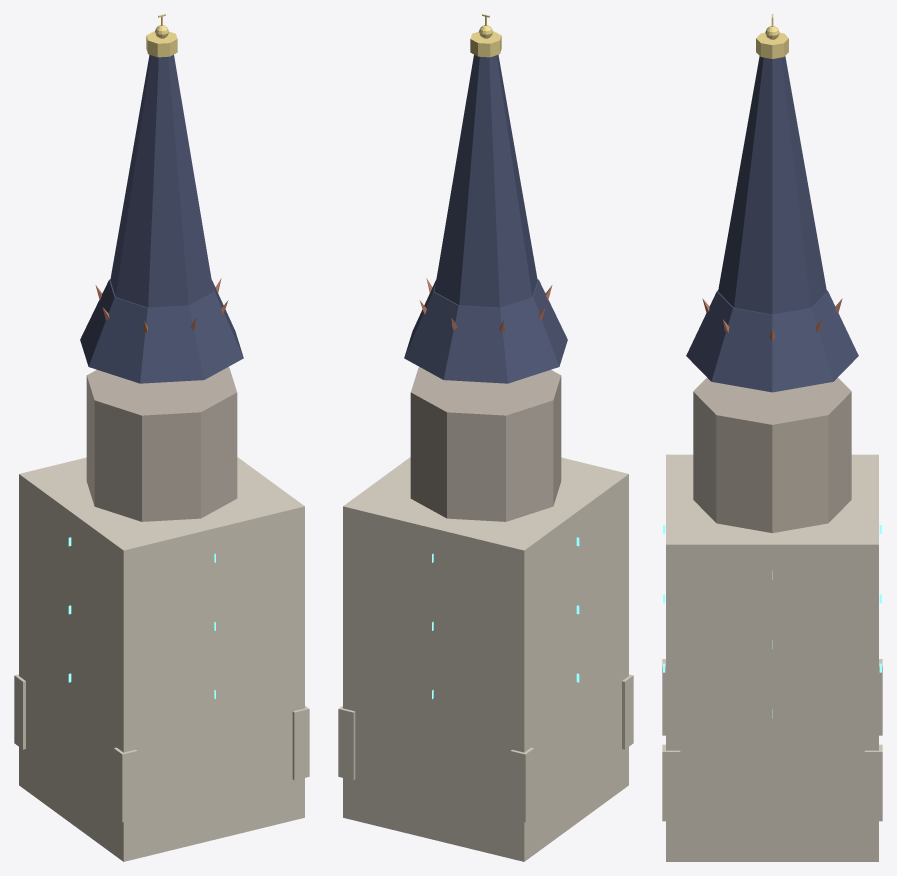
Rendered from church_spire_v14.glb.
The picture shows the model from 3 angles, left to right: view 1: azimuth 30°, elevation 25°; view 2: azimuth 150°, elevation 25°; view 3: azimuth 270°, elevation 25°; orthographic projection.
Parts seen in each view (by area): view 1: Cube, Cylinder, Cone.001, Cone, Cube.001, Cube.002, Cube.003, Cylinder.001; view 2: Cube, Cylinder, Cone.001, Cone, Cube.003, Cube.004, Cube.001, Cylinder.001; view 3: Cube, Cylinder, Cone.001, Cone, Cube.002, Cube.004, Cylinder.001.
Boxes of the visible parts, x1,y1,x2,y2 form: Cube: [19, 457, 304, 861]; Cylinder: [86, 367, 237, 521]; Cone.001: [110, 54, 213, 307]; Cone: [80, 279, 243, 383]; Cube.001: [113, 747, 137, 822]; Cube.002: [292, 706, 309, 780]; Cube.003: [14, 674, 25, 749]; Cylinder.001: [146, 31, 177, 57]; Cube: [343, 457, 628, 861]; Cylinder: [410, 367, 561, 521]; Cone.001: [434, 54, 537, 307]; Cone: [404, 279, 567, 383]; Cube.003: [510, 747, 534, 822]; Cube.004: [338, 706, 355, 780]; Cube.001: [622, 674, 633, 749]; Cylinder.001: [470, 31, 501, 57]; Cube: [666, 454, 878, 861]; Cylinder: [693, 377, 851, 533]; Cone.001: [718, 56, 826, 314]; Cone: [686, 290, 858, 392]; Cube.002: [662, 744, 680, 821]; Cube.004: [864, 744, 882, 821]; Cylinder.001: [756, 32, 788, 58].
Size of what is drawn, in the model's own units: 4.02 by 16.16 by 4.02.
